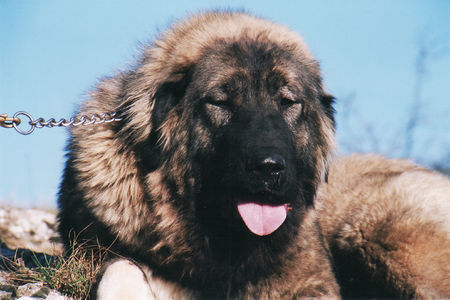cau_ovcharka: (54, 4, 450, 300)
